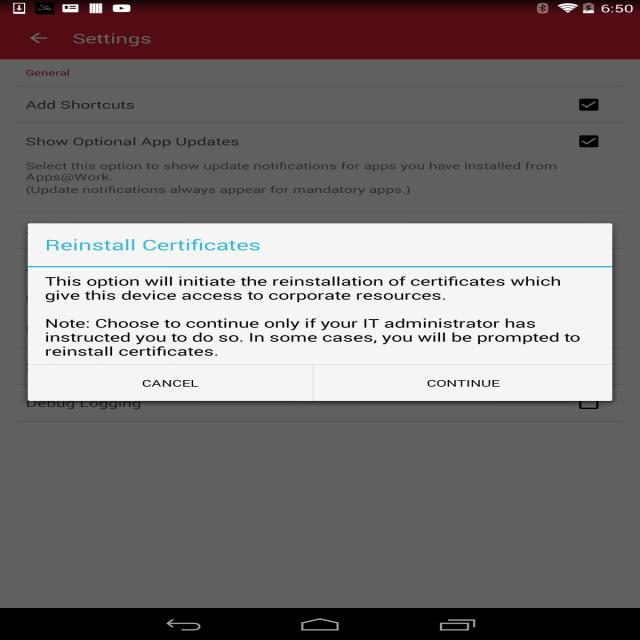button: (313, 364, 611, 400), (31, 365, 310, 400), (572, 130, 612, 155), (570, 93, 608, 114), (23, 27, 54, 50)
heading: (39, 234, 262, 256), (70, 27, 158, 51), (23, 68, 71, 80)
text: (20, 160, 561, 198), (38, 272, 570, 303), (20, 133, 242, 150), (21, 94, 140, 116)
